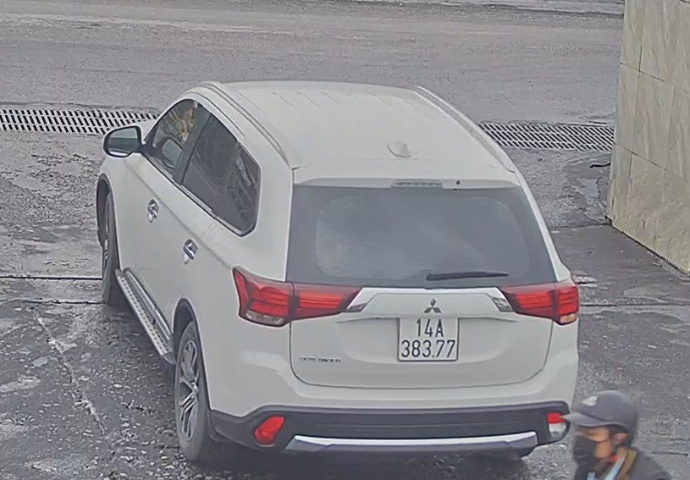vehicle plate: (389, 312, 465, 363)
